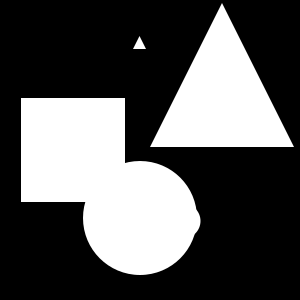circle: (21, 98, 125, 202)
rectangle: (83, 161, 197, 275), (166, 204, 200, 238)
triangle: (150, 3, 294, 147), (133, 36, 146, 49)
